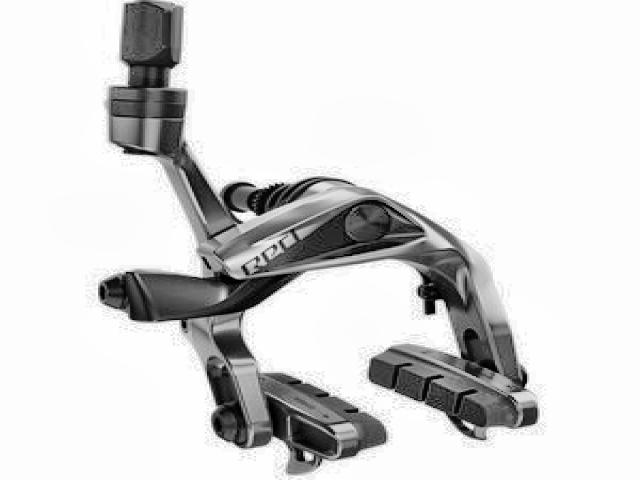rim_brake: (98, 0, 540, 476)
